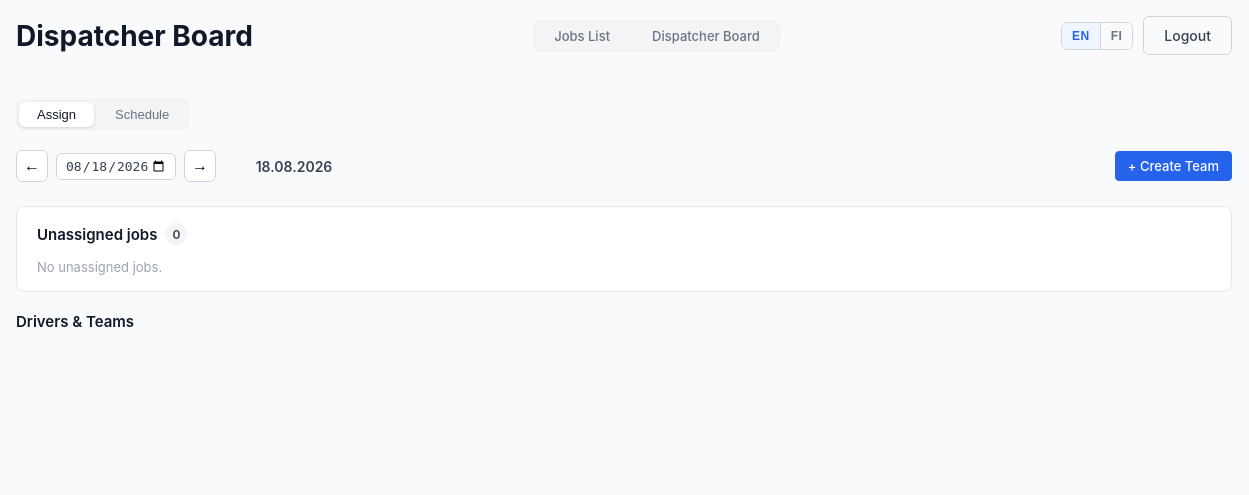
DispatcherBoard — Schedule view day header click › renders an accessible aria-label using the active i18n language
The image size is (1249, 495).
Click the button "Schedule" at coordinates (142, 114), box 97,102 -> 187,127
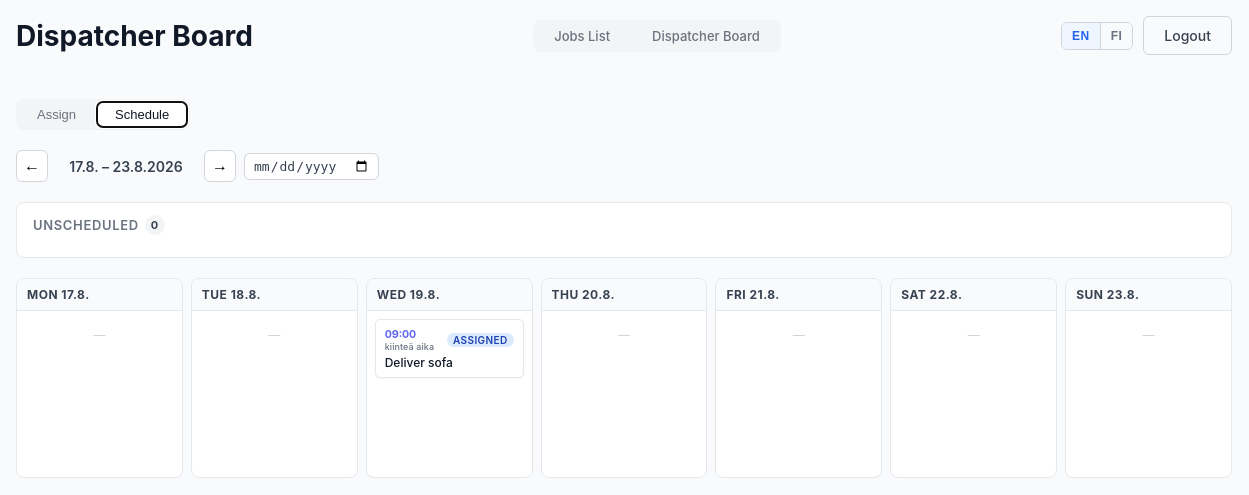
Check: the button named "Next week" is shown, box 204,150 -> 236,182
